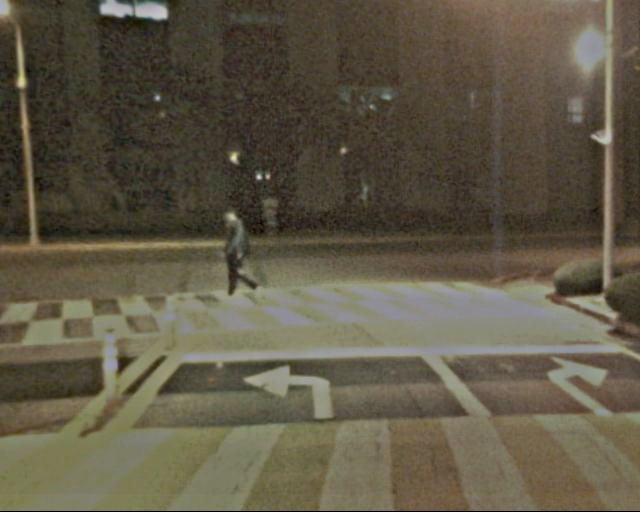person: (214, 207, 255, 306)
